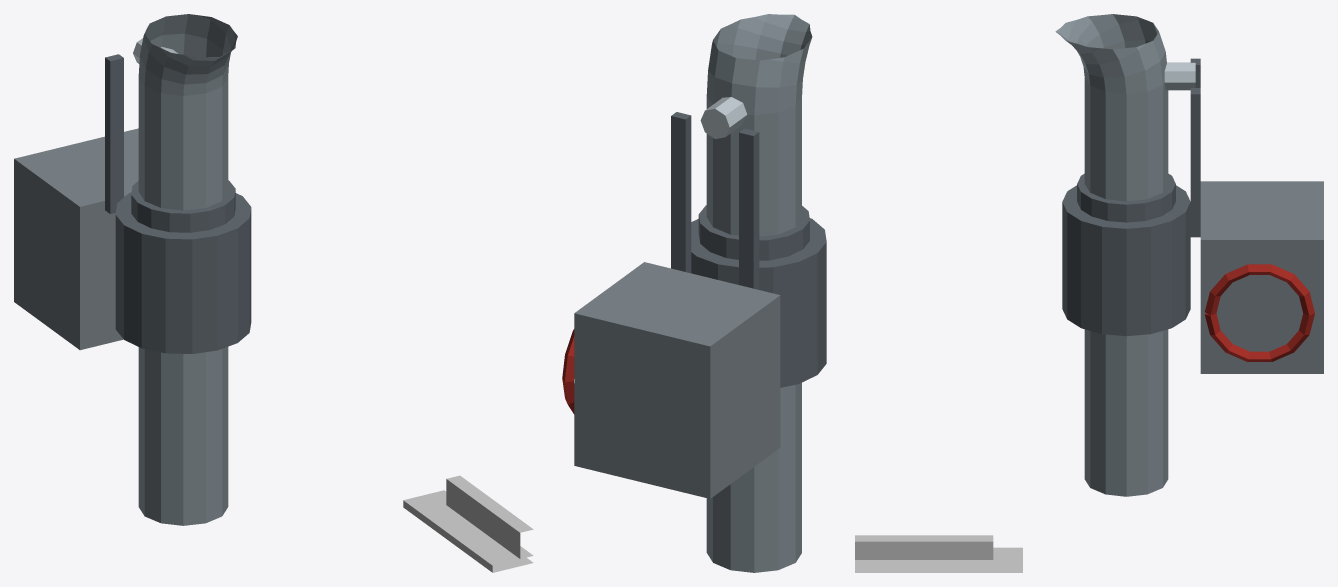
The model's file is cell_4.obj.
3 renders of one model, left to right at view 1: azimuth 30°, elevation 25°; view 2: azimuth 150°, elevation 25°; view 3: azimuth 270°, elevation 25°, orthographic. The views are drawn at different scales.
Bounding box in the file's own units: 0.59 × 1 × 0.95.
